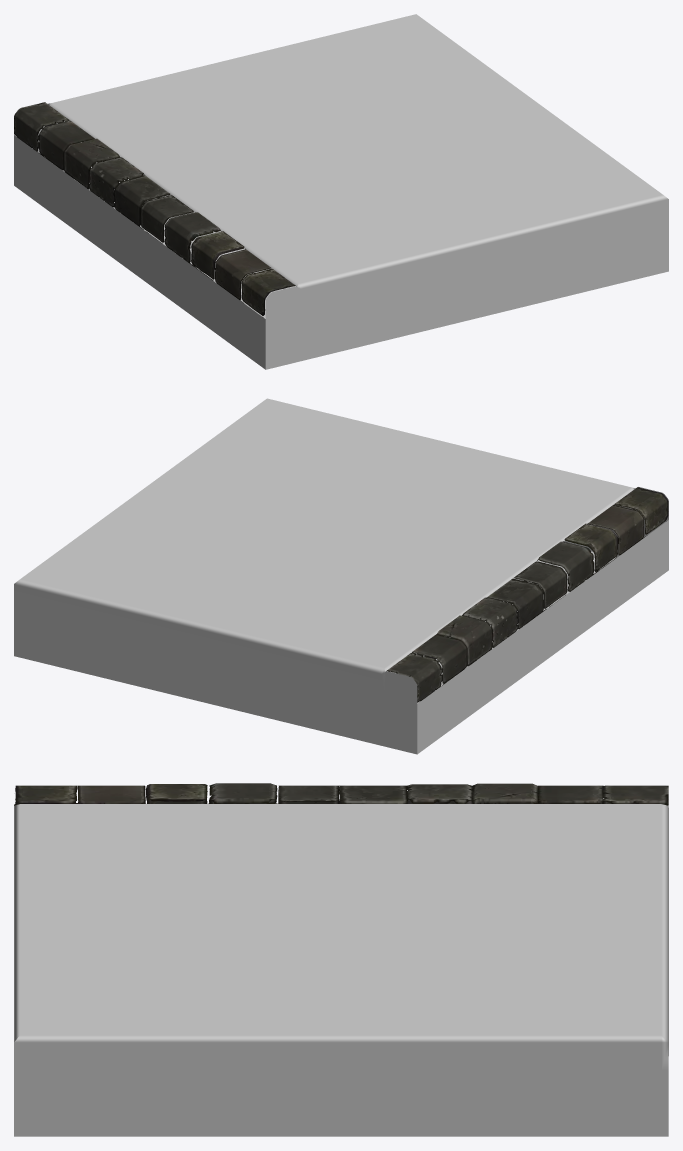
3 views of the same model, one above another, from view 1: azimuth 30°, elevation 25°; view 2: azimuth 150°, elevation 25°; view 3: azimuth 270°, elevation 25° (orthographic). The views are drawn at different scales.
Parts seen in each view (by area): view 1: SM_Downdun_Vaulted_Floor_12x12_01_LOD0; view 2: SM_Downdun_Vaulted_Floor_12x12_01_LOD0; view 3: SM_Downdun_Vaulted_Floor_12x12_01_LOD0.
Part boxes in pixels (x1,y1,x2,y2): SM_Downdun_Vaulted_Floor_12x12_01_LOD0: (14,14,668,369); SM_Downdun_Vaulted_Floor_12x12_01_LOD0: (14,398,668,754); SM_Downdun_Vaulted_Floor_12x12_01_LOD0: (14,783,668,1136).
Size of the model in its own units: 11.1 by 2.05 by 12.01.
